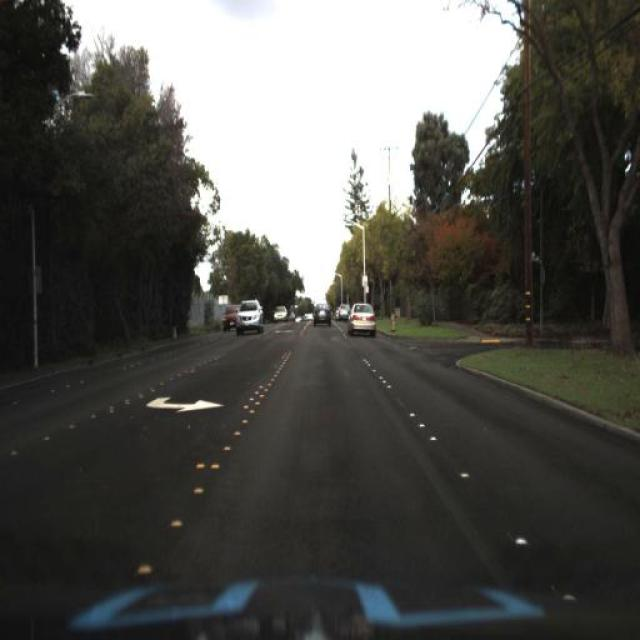car: (347, 296, 377, 339), (234, 296, 266, 332), (311, 299, 331, 330), (220, 305, 236, 329), (334, 299, 348, 322)
